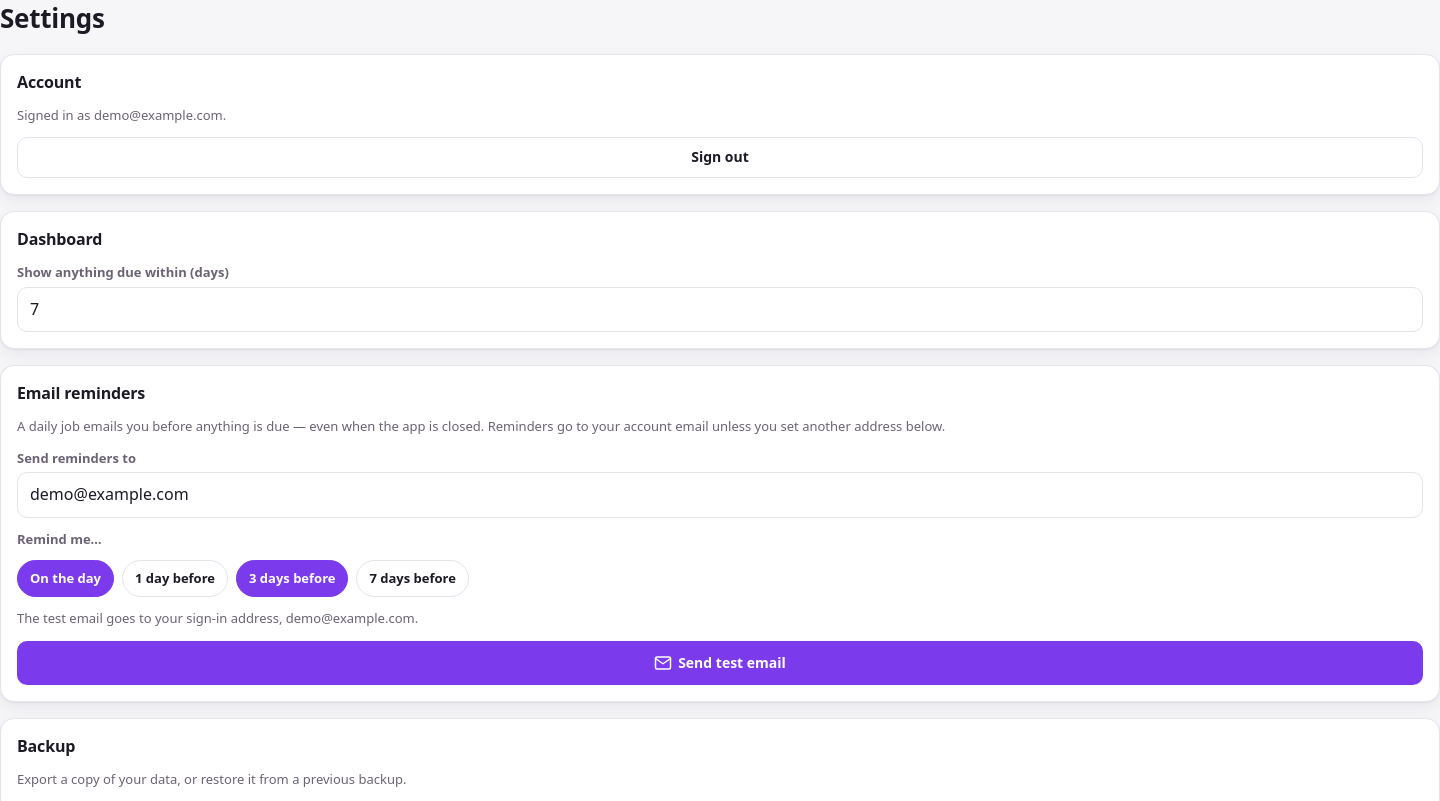
Test: SettingsView reminder recipient › never saves an invalid address
The image size is (1440, 801).
In the field labelled "Send reminders to": {"x": 720, "y": 495} [17,472,1423,518], type "not-an-email"
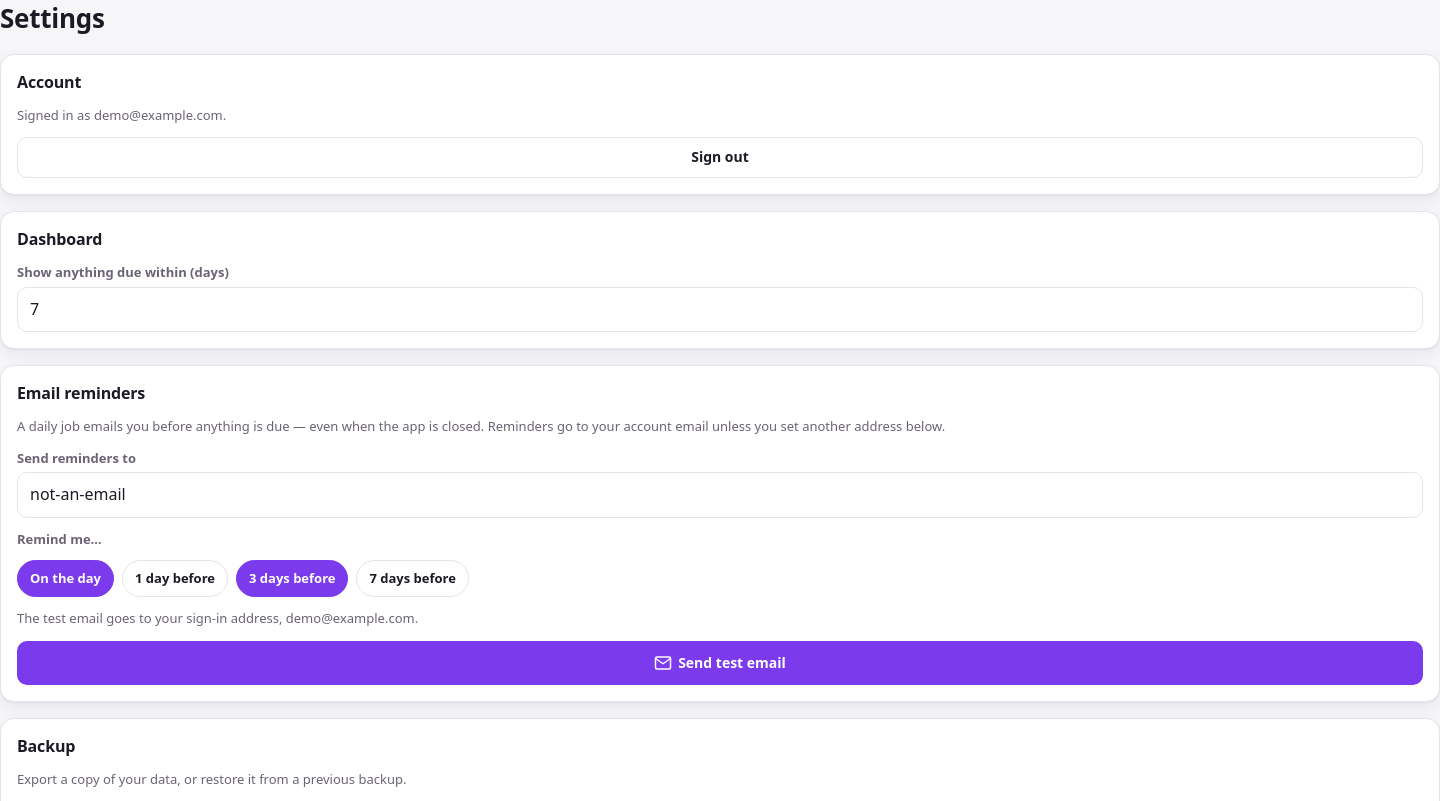
Leave the field labelled "Send reminders to", box [17,472,1423,518]
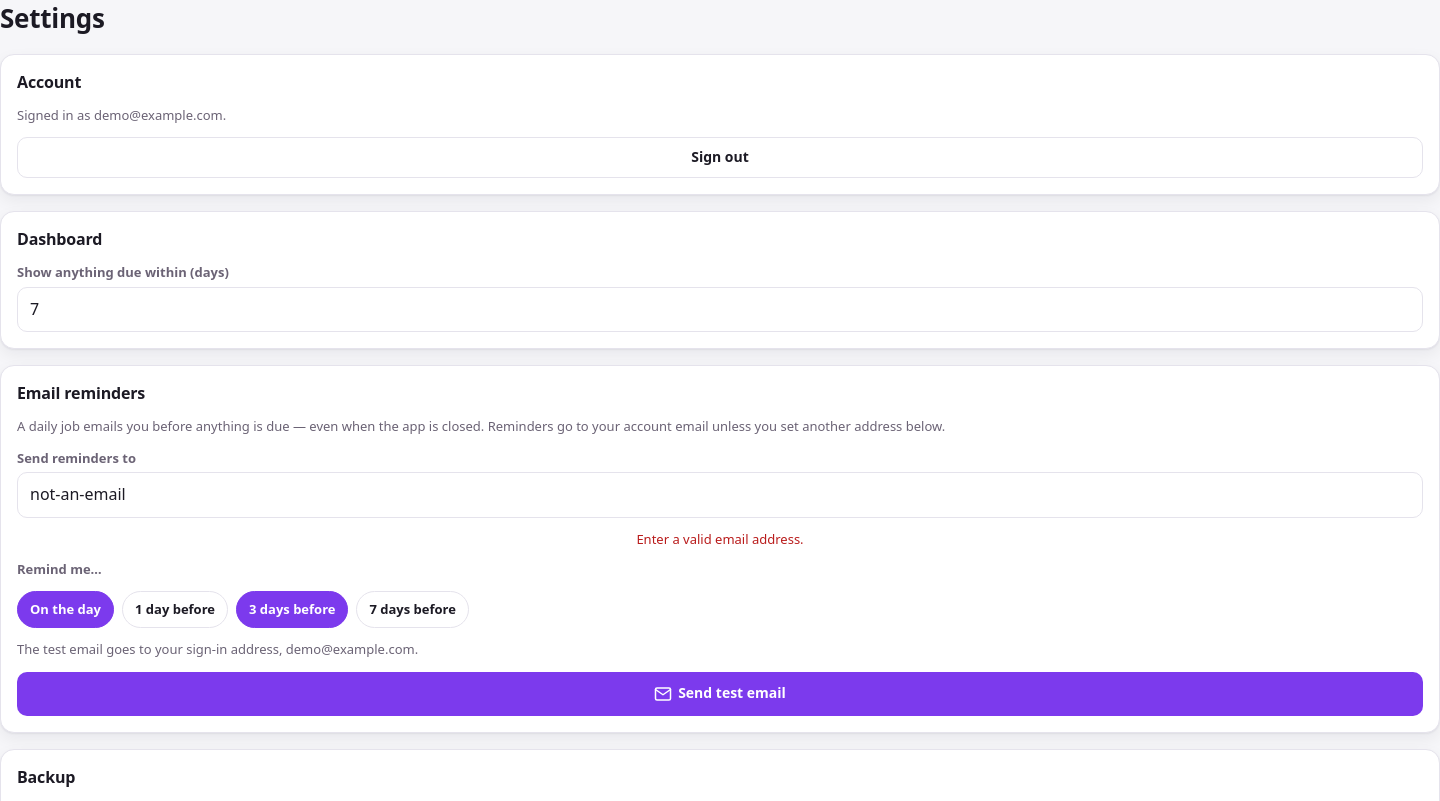
Result: the message shows "valid email" at [636,530,804,548]
